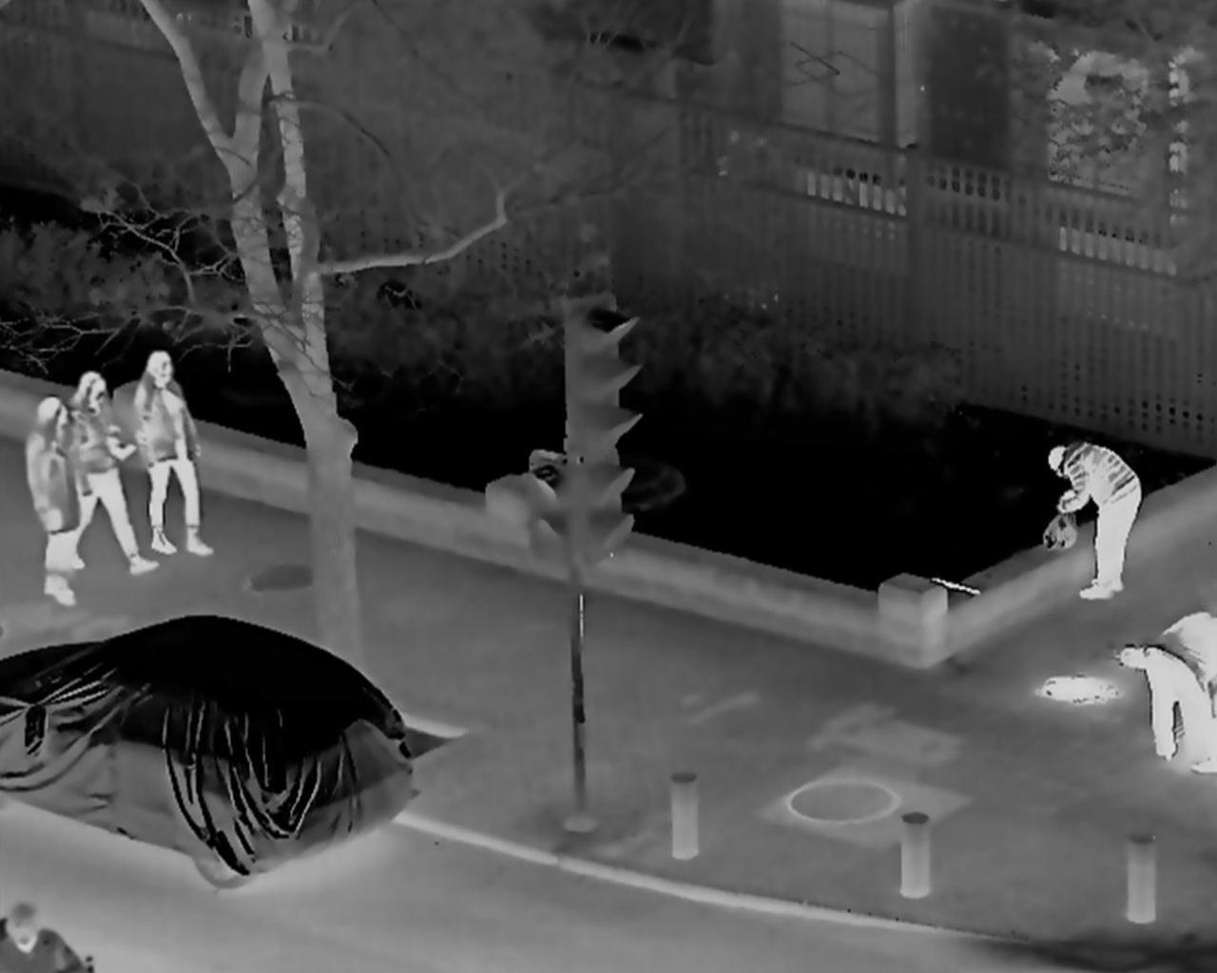person: (65, 378, 156, 577), (1037, 442, 1143, 601), (141, 358, 211, 564), (1133, 604, 1213, 775), (26, 398, 79, 610)
